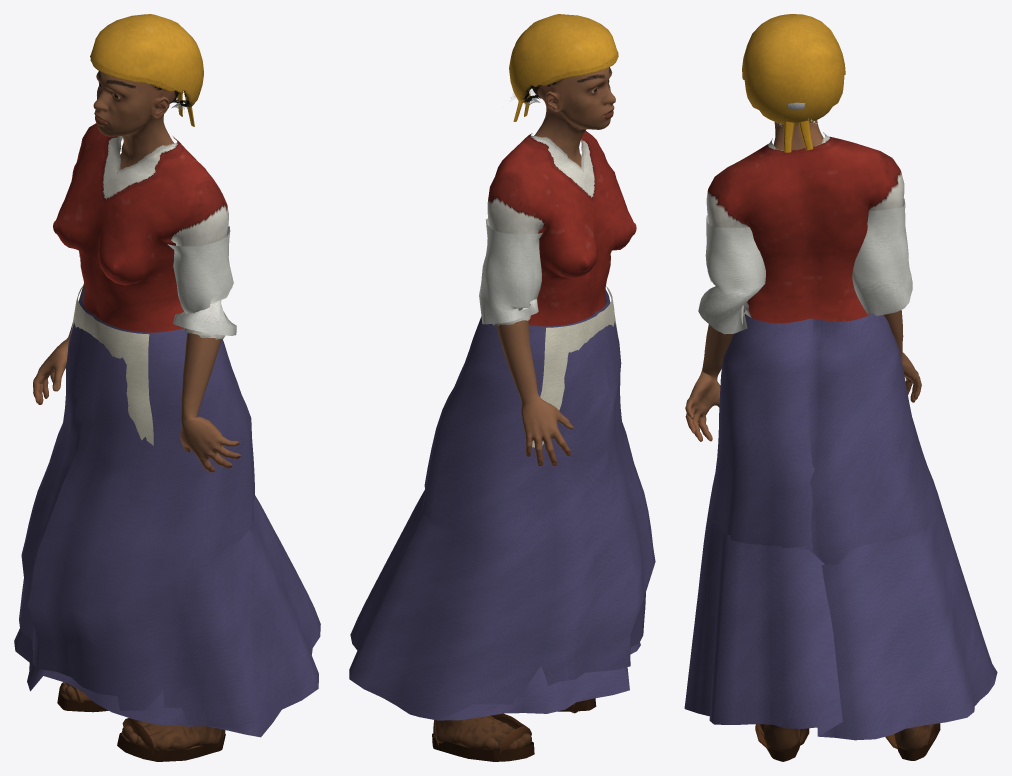
The model's file is SM_Art_Person_market_woman.gltf.
3 renders of one model, left to right at view 1: azimuth 30°, elevation 25°; view 2: azimuth 150°, elevation 25°; view 3: azimuth 270°, elevation 25°, orthographic. The views are drawn at different scales.
Parts seen in each view (by area): view 1: SM_Art_Person_market_woman; view 2: SM_Art_Person_market_woman; view 3: SM_Art_Person_market_woman.
Boxes of the visible parts, x1,y1,x2,y2 form: SM_Art_Person_market_woman: (14, 14, 320, 761); SM_Art_Person_market_woman: (349, 14, 655, 761); SM_Art_Person_market_woman: (684, 14, 997, 761).
Size of the model in its own units: 0.6792 by 1.69 by 0.6799.
Materials: 16 (16 with a texture image).
